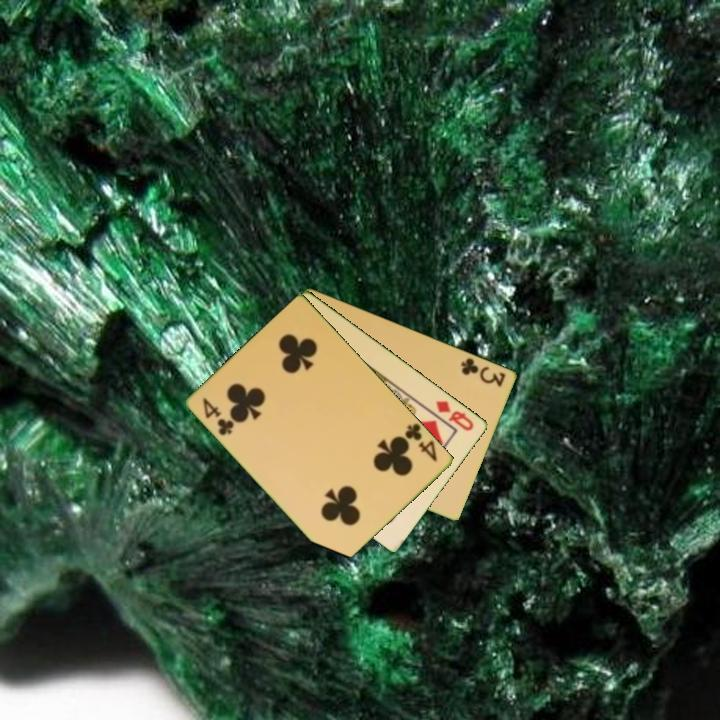3c: (458, 354, 508, 390)
4c: (402, 420, 441, 465), (199, 394, 237, 439)
Qd: (432, 397, 477, 434)
